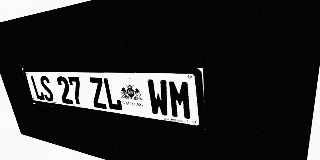2: (56, 76, 73, 104)
7: (67, 77, 85, 106)
L: (102, 78, 123, 111), (30, 75, 45, 101)
M: (168, 80, 193, 121)
S: (39, 76, 55, 102)
W: (146, 79, 170, 117)
Z: (88, 77, 108, 109)
